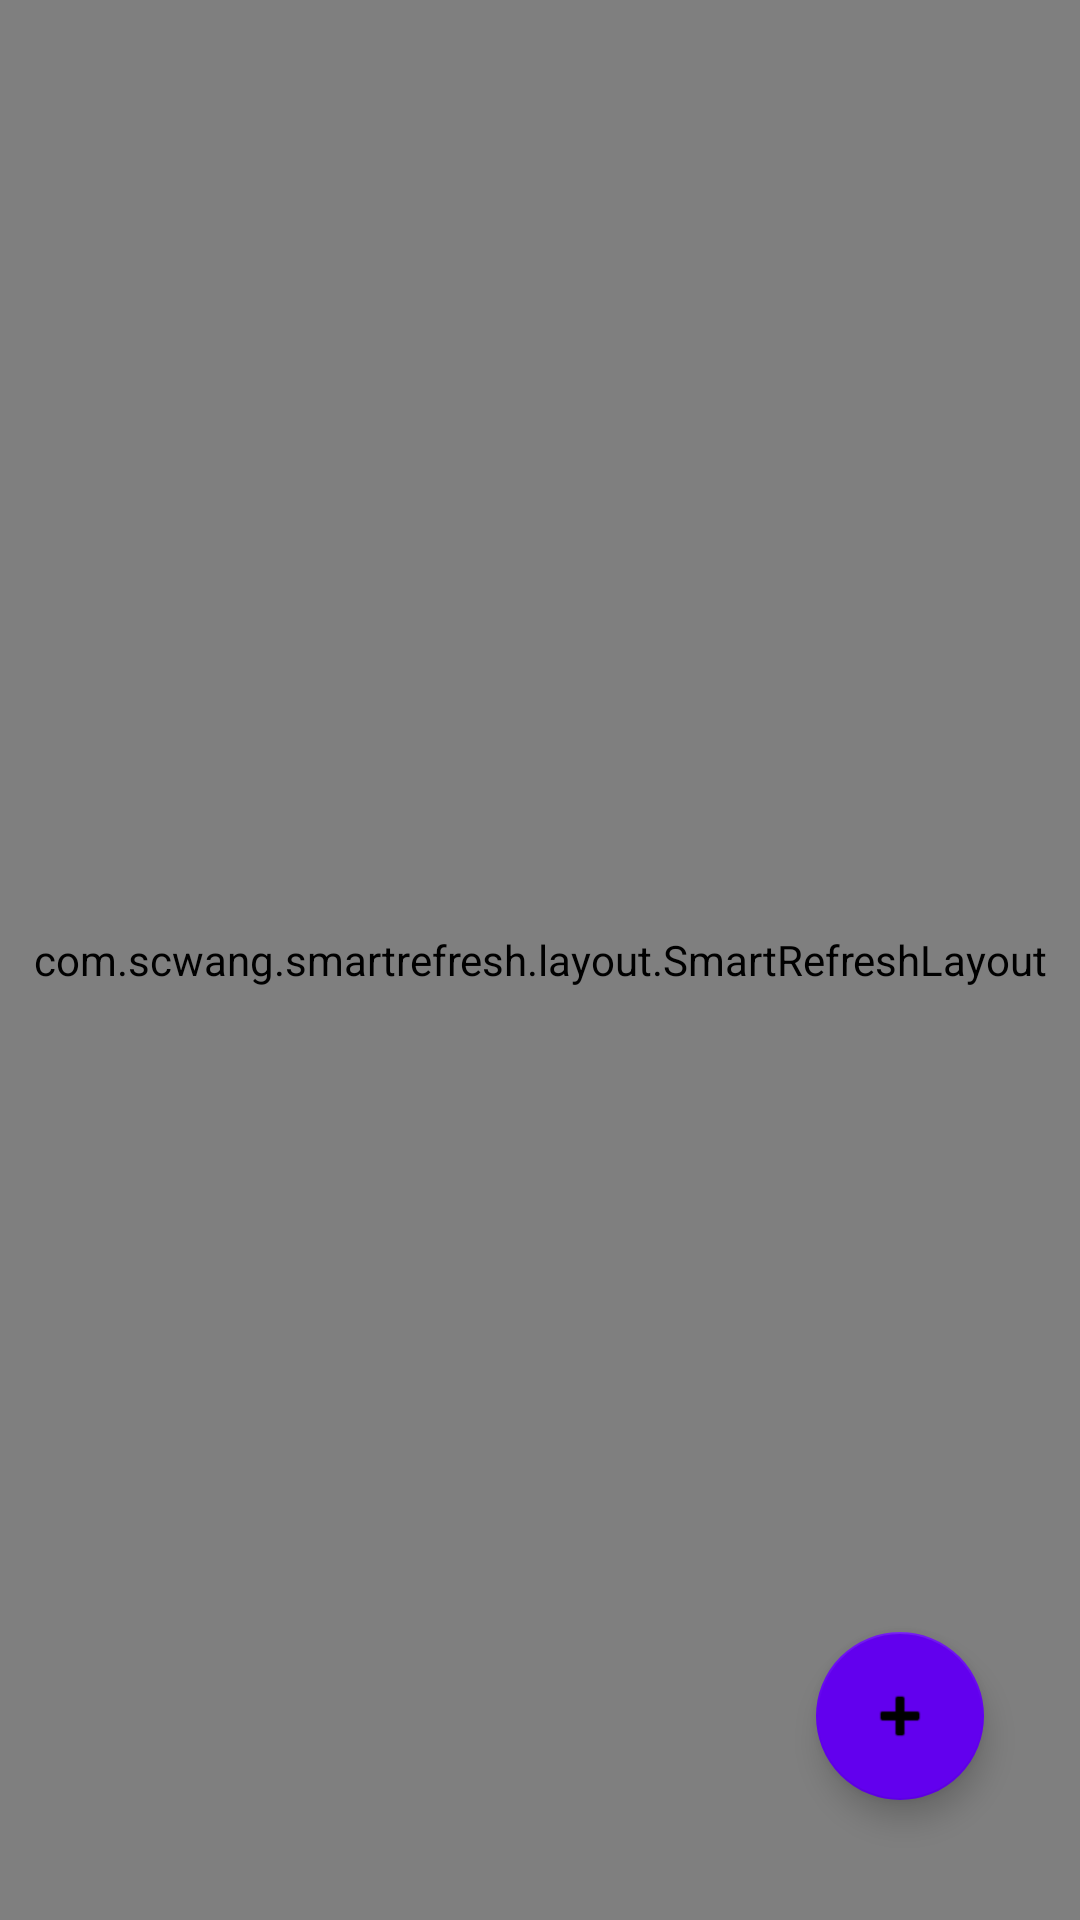

Screen size 1080w x 1920h. Icon name, then its center in pixels as [x,y]:
add comment: [900,1716]
